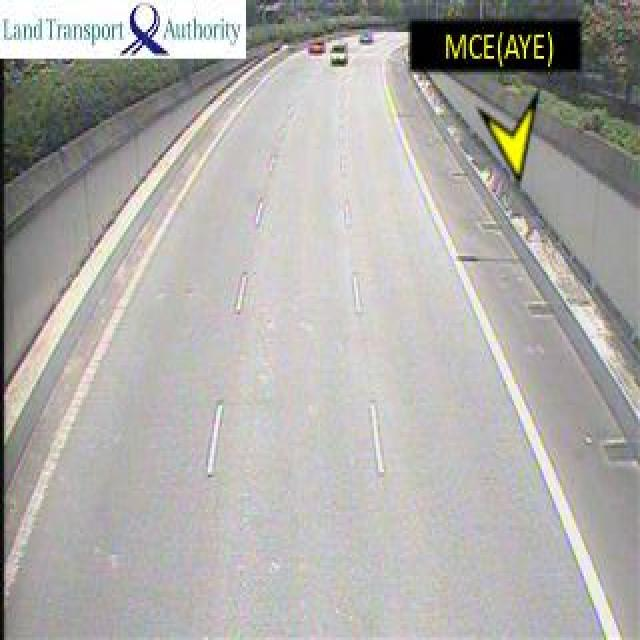-vehicles: (331, 41, 348, 68), (306, 38, 326, 59), (356, 33, 376, 47)
